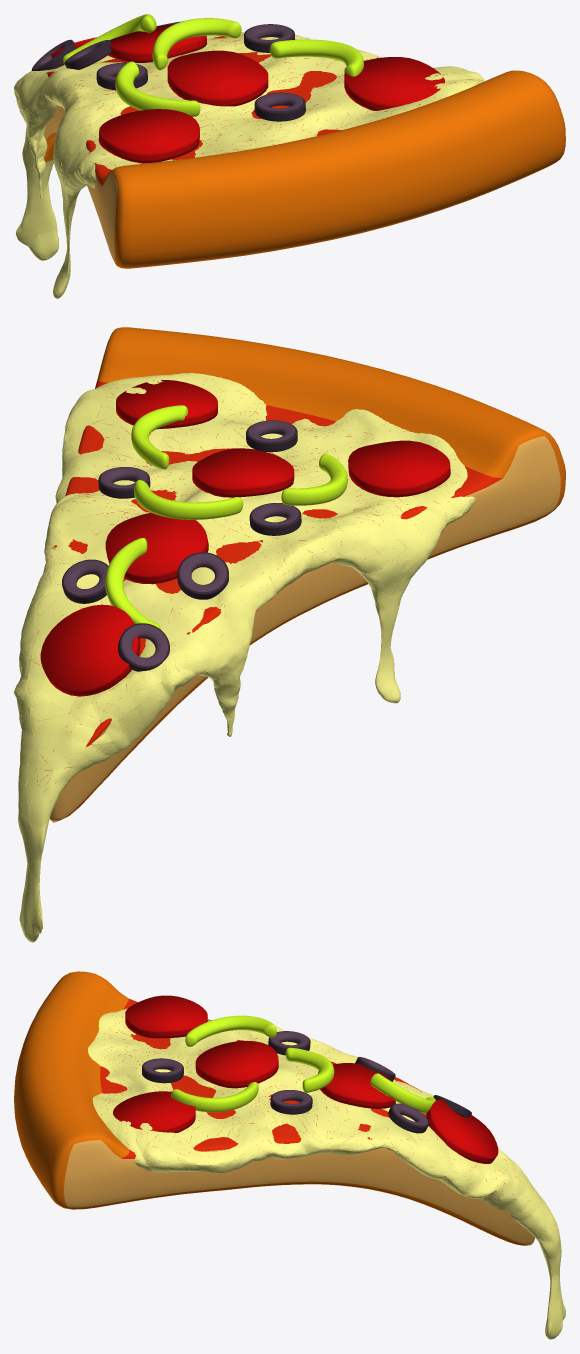
Rendered from pizza.gltf.
The picture shows the model from 3 angles, top to bottom: view 1: azimuth 30°, elevation 25°; view 2: azimuth 150°, elevation 25°; view 3: azimuth 270°, elevation 25°; orthographic projection. The views are drawn at different scales.
Visible parts, largest first — view 1: Cylinder_16, Plane_2, Cylinder.005_11, Cylinder.003_13, Cylinder.004_12, Cylinder.002_14, Cylinder.013_3, Cylinder.010_6, Cylinder.011_5, Cylinder.007_9, Cylinder.006_10, Cylinder.012_4 (+3 smaller); view 2: Plane_2, Cylinder_16, Cylinder.001_15, Cylinder.003_13, Cylinder.002_14, Cylinder.005_11, Cylinder.004_12, Cylinder.013_3, Cylinder.012_4, Cylinder.010_6, Cylinder.015_0, Cylinder.011_5 (+5 smaller); view 3: Cylinder_16, Plane_2, Cylinder.005_11, Cylinder.003_13, Cylinder.001_15, Cylinder.004_12, Cylinder.002_14, Cylinder.011_5, Cylinder.010_6, Cylinder.013_3, Cylinder.012_4, Cylinder.007_9 (+3 smaller).
Boxes of the visible parts, left/top/right/bottom form: Cylinder_16: left=37, top=34, right=565, bottom=268; Plane_2: left=14, top=32, right=484, bottom=298; Cylinder.005_11: left=167, top=50, right=268, bottom=106; Cylinder.003_13: left=98, top=109, right=199, bottom=162; Cylinder.004_12: left=344, top=57, right=444, bottom=113; Cylinder.002_14: left=108, top=24, right=206, bottom=62; Cylinder.013_3: left=152, top=18, right=241, bottom=70; Cylinder.010_6: left=269, top=39, right=363, bottom=76; Cylinder.011_5: left=115, top=61, right=200, bottom=116; Cylinder.007_9: left=254, top=92, right=305, bottom=121; Cylinder.006_10: left=244, top=24, right=295, bottom=52; Cylinder.012_4: left=63, top=14, right=156, bottom=64; Plane_2: left=14, top=373, right=475, bottom=942; Cylinder_16: left=26, top=327, right=565, bottom=822; Cylinder.001_15: left=40, top=604, right=140, bottom=696; Cylinder.003_13: left=348, top=440, right=450, bottom=497; Cylinder.002_14: left=105, top=512, right=208, bottom=584; Cylinder.005_11: left=192, top=448, right=294, bottom=497; Cylinder.004_12: left=116, top=380, right=217, bottom=429; Cylinder.013_3: left=134, top=480, right=243, bottom=519; Cylinder.012_4: left=105, top=538, right=160, bottom=629; Cylinder.010_6: left=131, top=405, right=187, bottom=469; Cylinder.015_0: left=177, top=552, right=228, bottom=599; Cylinder.011_5: left=281, top=453, right=347, bottom=505; Cylinder_16: left=14, top=971, right=536, bottom=1245; Plane_2: left=88, top=1008, right=565, bottom=1339; Cylinder.005_11: left=195, top=1040, right=278, bottom=1088; Cylinder.003_13: left=125, top=995, right=207, bottom=1038; Cylinder.001_15: left=426, top=1099, right=498, bottom=1163; Cylinder.004_12: left=113, top=1091, right=195, bottom=1136; Cylinder.002_14: left=318, top=1063, right=395, bottom=1108; Cylinder.011_5: left=185, top=1015, right=276, bottom=1046; Cylinder.010_6: left=171, top=1082, right=258, bottom=1112; Cylinder.013_3: left=285, top=1047, right=334, bottom=1092; Cylinder.012_4: left=370, top=1073, right=435, bottom=1113; Cylinder.007_9: left=142, top=1058, right=183, bottom=1083.
Bounding box in the file's own units: 0.7544 × 0.5595 × 0.9825.
1 material, 1 textured.
